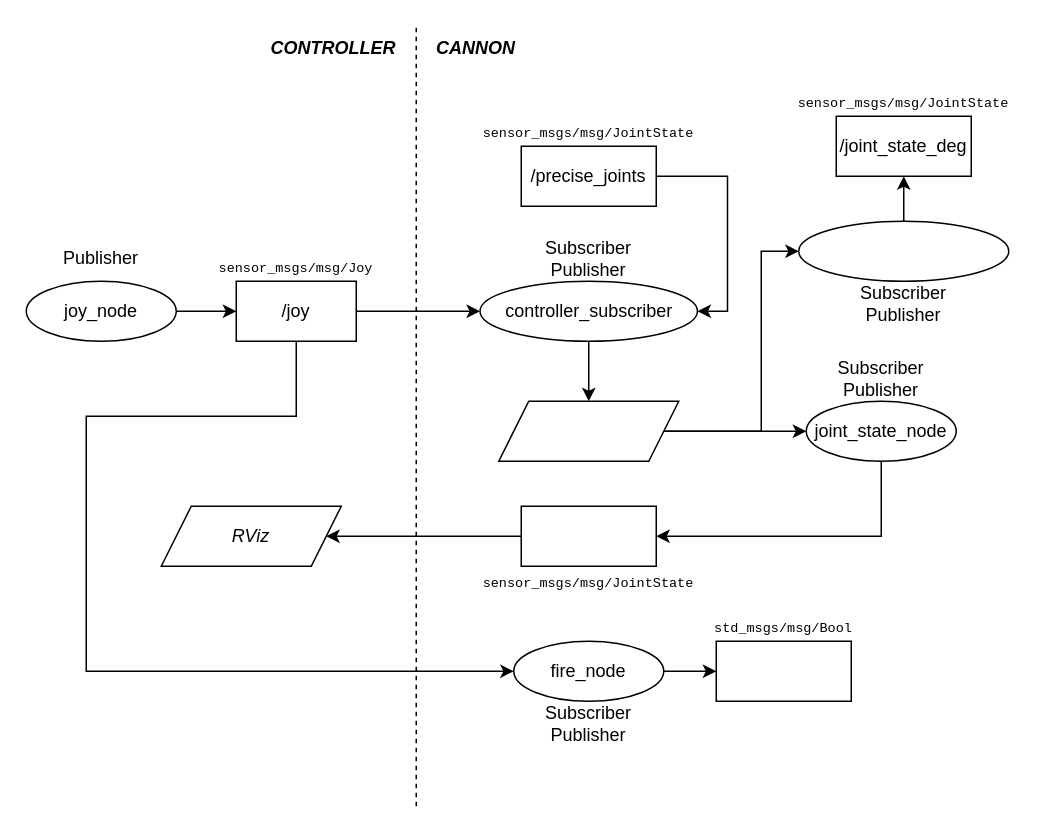
Some shapes in this 1043 by 834 pixel diagram are drawn without their labels. Here are the shapes that lost their labels. From the top down, the centre of each, then its label:
At [903,250]: "joint_state_node_deg".
At [588,430]: "wx250s".
At [588,535]: "/joint_state".
At [783,670]: "/fire".
